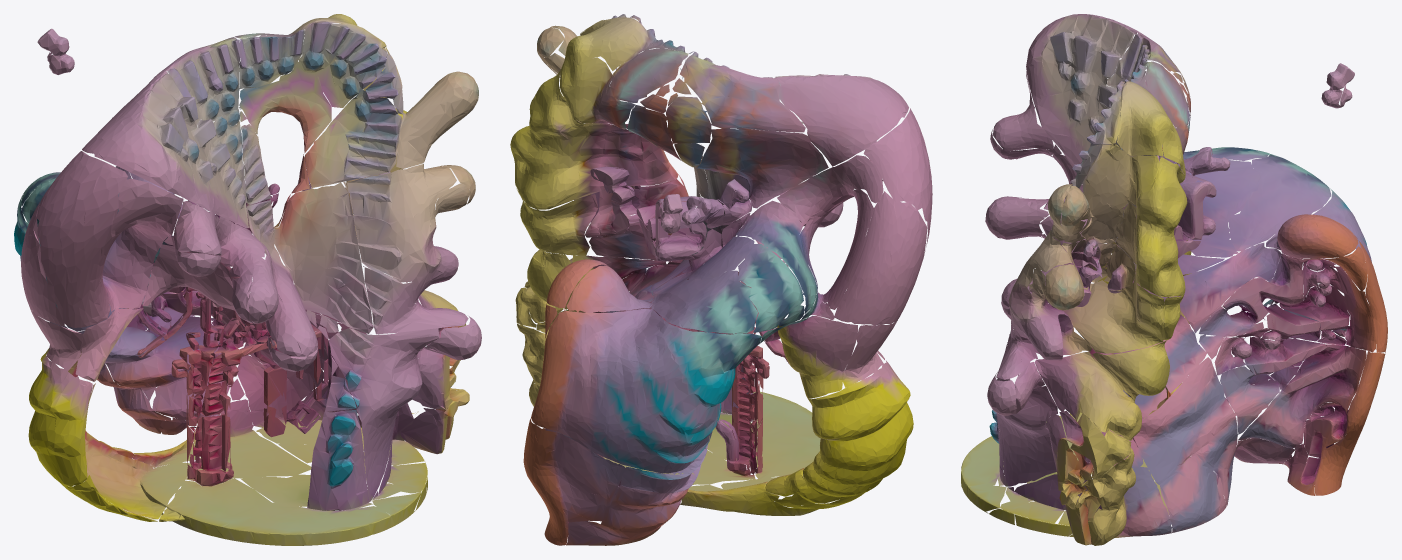
File: tripo_loop_cluster_6m.glb
The picture shows the model from 3 angles, left to right: view 1: azimuth 30°, elevation 25°; view 2: azimuth 150°, elevation 25°; view 3: azimuth 270°, elevation 25°; orthographic projection. The views are drawn at different scales.
Parts seen in each view (by area): view 1: geometry_0; view 2: geometry_0; view 3: geometry_0.
Boxes of the visible parts, x1=… form: geometry_0: x1=14, y1=14, x2=481, y2=545; geometry_0: x1=510, y1=14, x2=932, y2=545; geometry_0: x1=961, y1=14, x2=1387, y2=545.
Size of the model in its own units: 0.9981 by 0.9967 by 0.9159.
